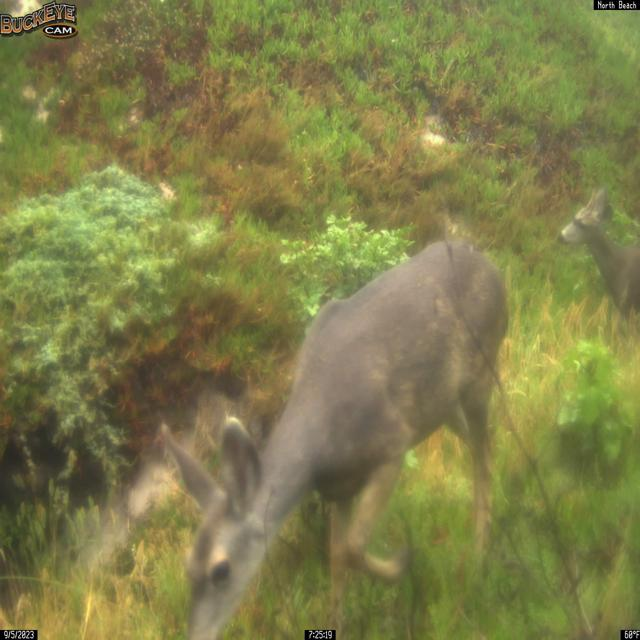deer: (159, 239, 510, 640)
